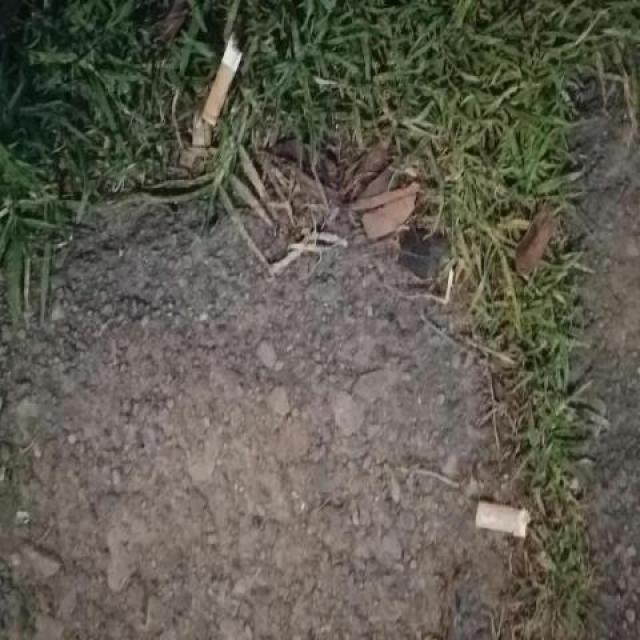non-organic waste: (199, 27, 248, 133), (473, 493, 535, 547)
